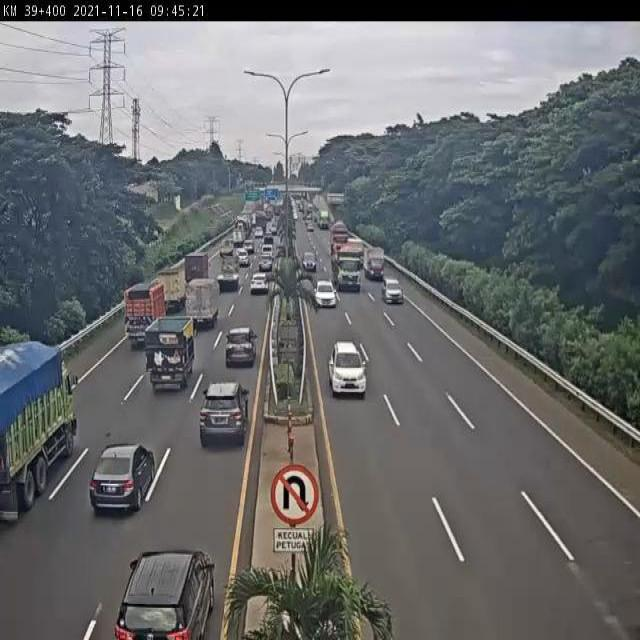car: (90, 444, 155, 509), (200, 383, 249, 445), (329, 341, 366, 399), (225, 330, 256, 366), (314, 277, 338, 311), (380, 275, 405, 304), (249, 276, 270, 299), (233, 248, 250, 269), (258, 257, 273, 276)
small truck: (185, 283, 217, 329), (157, 269, 185, 311), (182, 252, 210, 285), (214, 258, 239, 294)
truck-l-: (0, 345, 79, 504), (331, 239, 364, 293)
truck-m-: (144, 317, 195, 388), (125, 287, 163, 340)
